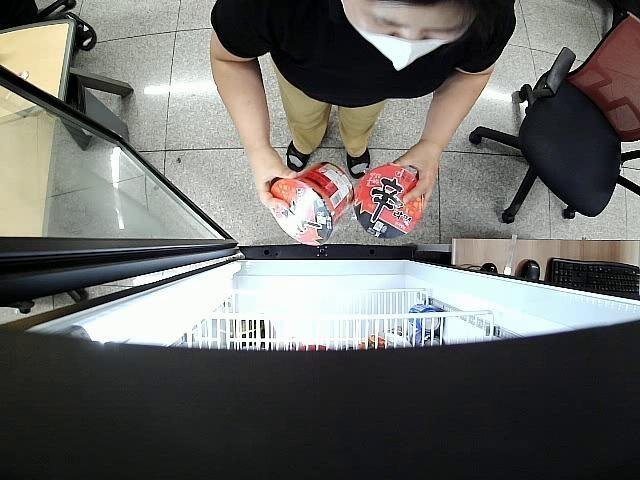01_ShinRamen_L: (270, 162, 353, 246), (354, 165, 424, 238)
